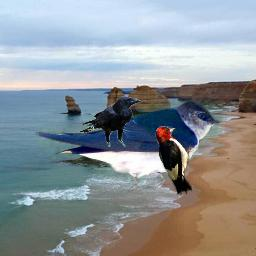Crow: (78, 96, 142, 147)
Swallow: (35, 100, 223, 193)
Woodpecker: (155, 126, 197, 196)
